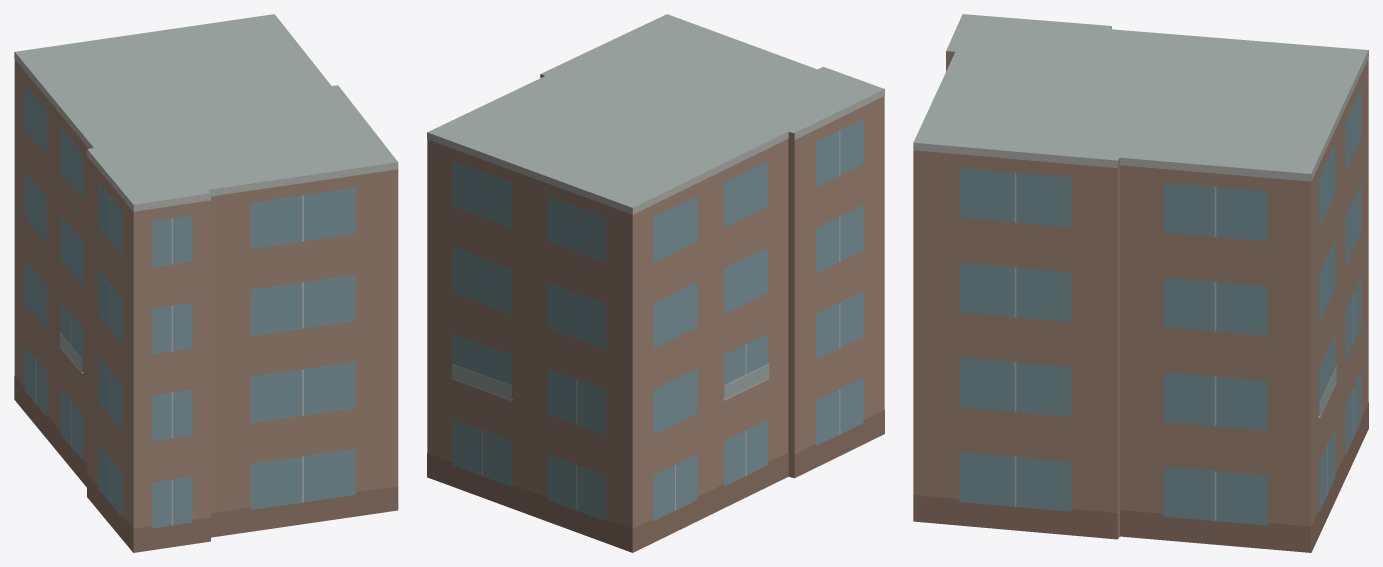
Rendered from survey-upis-32511537.glb.
3 views of the same model, side by side, from view 1: azimuth 30°, elevation 25°; view 2: azimuth 150°, elevation 25°; view 3: azimuth 270°, elevation 25° (orthographic). The views are drawn at different scales.
Parts seen in each view (by area): view 1: survey-upis-32511537.tmp; view 2: survey-upis-32511537.tmp; view 3: survey-upis-32511537.tmp.
Part boxes in pixels (x1,y1,x2,y2): survey-upis-32511537.tmp: (14, 14, 398, 552); survey-upis-32511537.tmp: (427, 14, 884, 552); survey-upis-32511537.tmp: (913, 14, 1368, 552).
Size of the model in its own units: 11.08 by 12.21 by 13.31.
